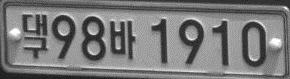0: (241, 20, 266, 67)
1: (209, 20, 234, 66), (149, 18, 174, 63)
8: (80, 15, 106, 61)
9: (178, 18, 204, 65), (51, 14, 76, 59)
대구_V: (21, 13, 49, 58)
바: (109, 19, 136, 60)
